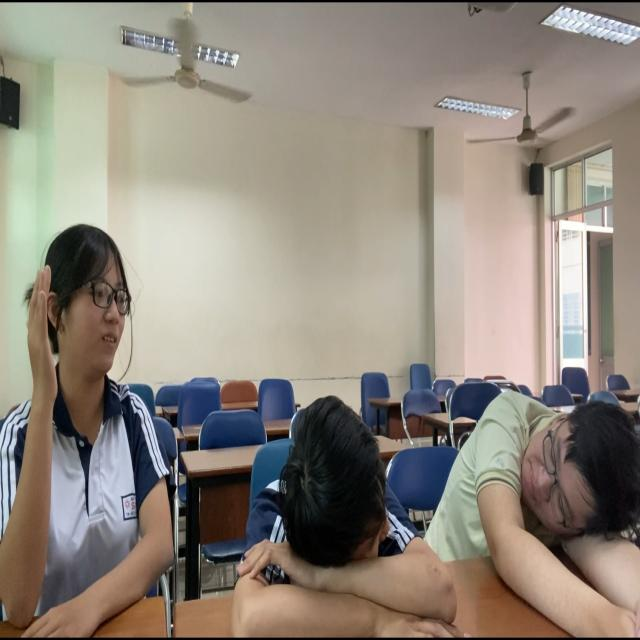raise_hand: (1, 203, 187, 640)
sleep: (234, 386, 460, 640)
